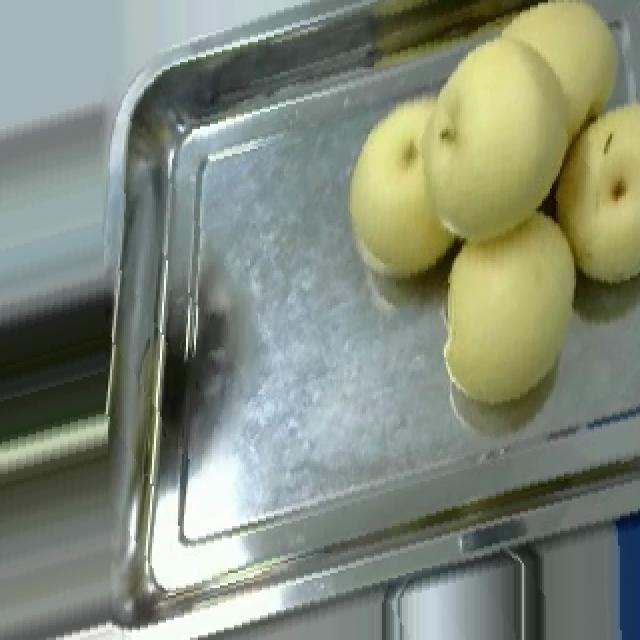Fruit: (320, 0, 638, 308), (410, 196, 612, 429), (522, 70, 640, 312)
